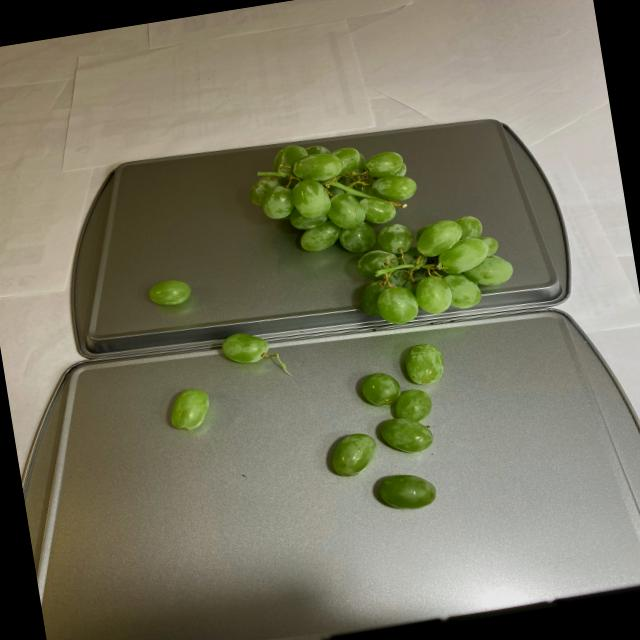grapes: (245, 115, 517, 342), (316, 342, 466, 522), (142, 264, 280, 433)
